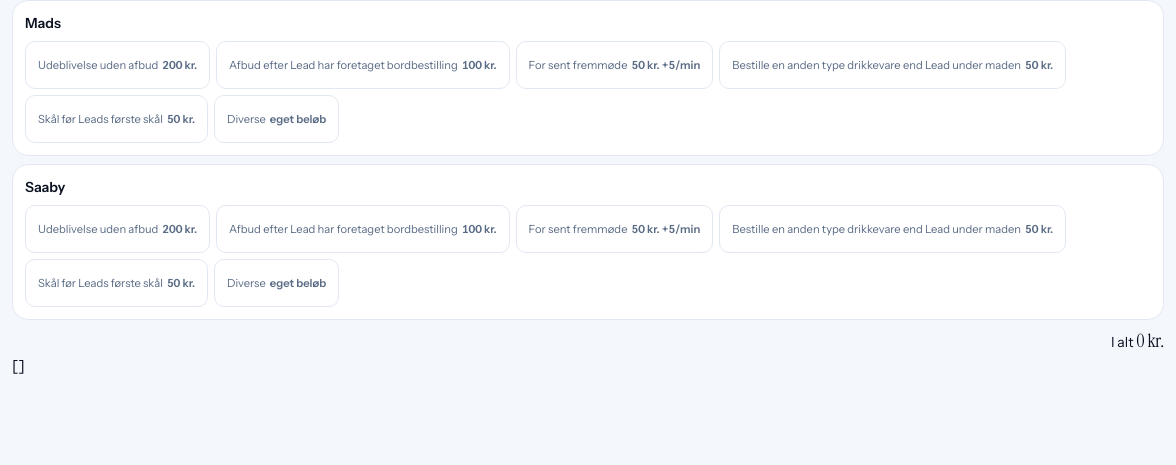
Scenario: the refusal survives moving on to the next member
This screenshot has width=1176, height=465.
Click the 1st button "For sent fremmøde 50 kr. +5/min" at (614, 65), box [516,41,713,89]
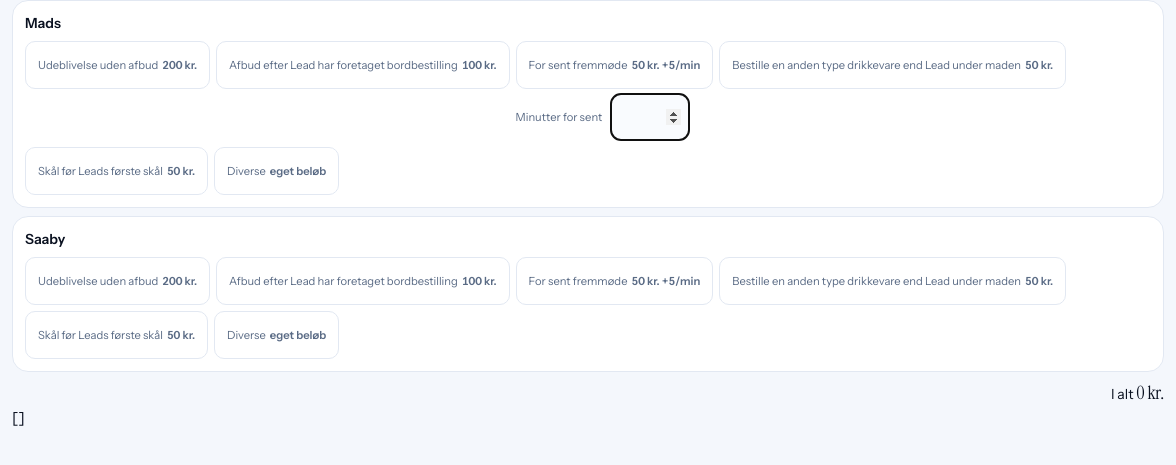
Type "1200" into the number field named "Minutter for sent — Mads" at (650, 117), box [610,93,690,141]
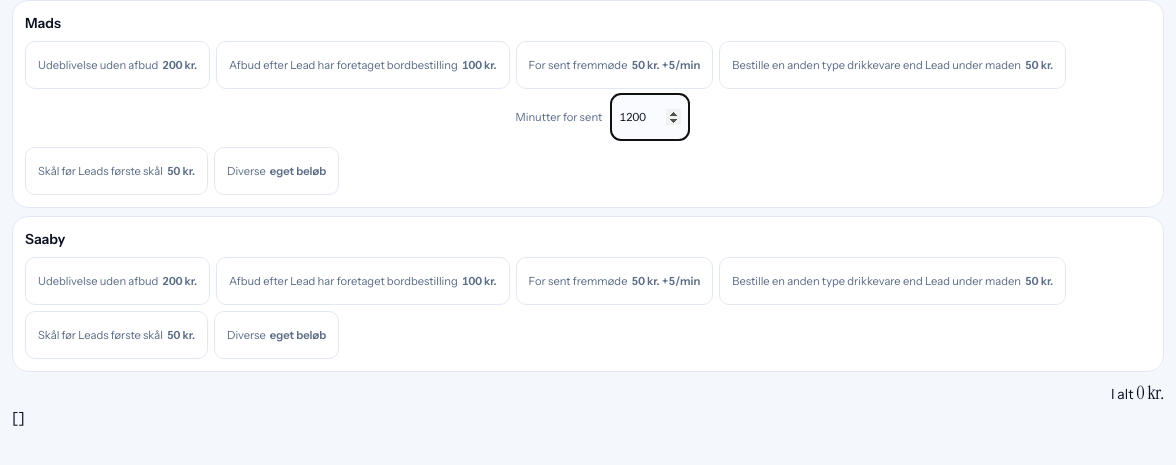
Click the button "Skål før Leads første skål 50 kr." below "Saaby" at (116, 335), box [25,311,208,359]
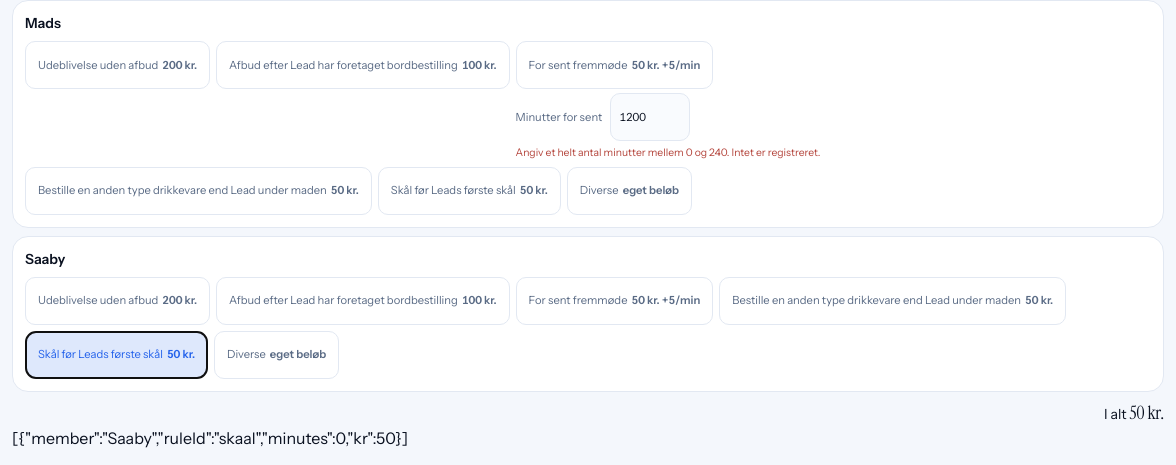
Expected: the message "Angiv et helt antal minutter mellem 0 og 240. Intet er registreret." is shown, [516,145,820,161]
